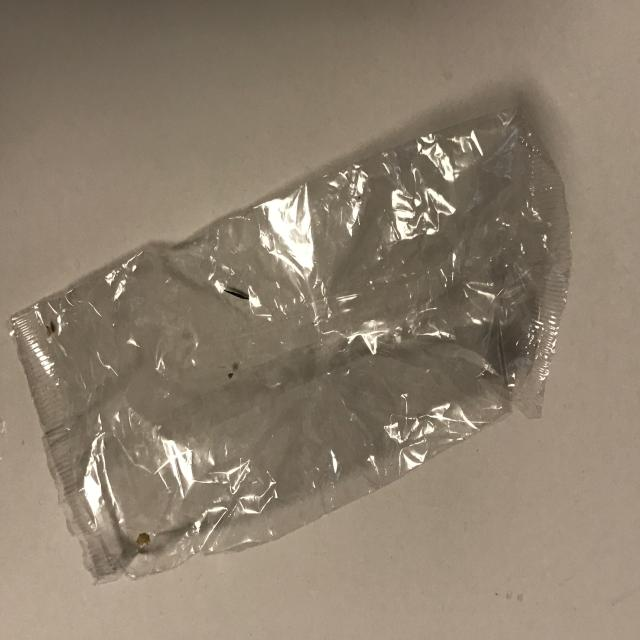trash: (6, 102, 572, 585)
